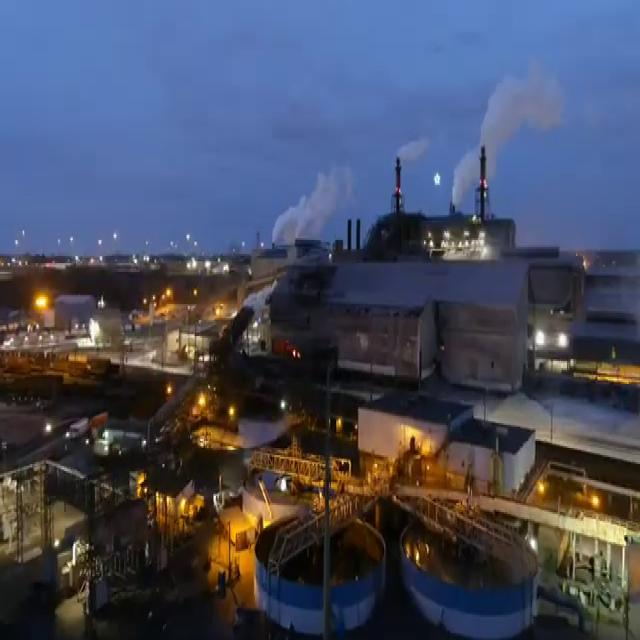smoke: (451, 59, 563, 220), (271, 167, 359, 251)
